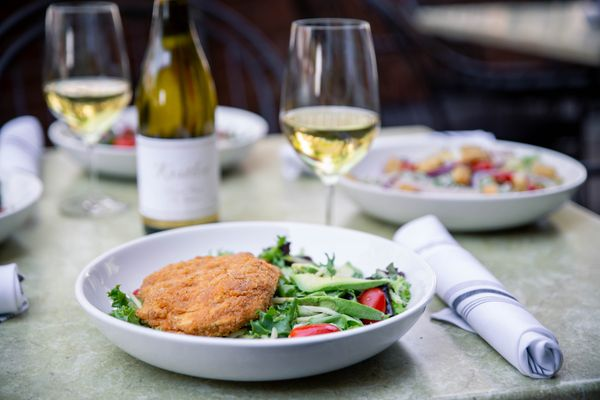curry: (107, 284, 144, 326)
sushi: (68, 218, 437, 383), (336, 126, 588, 232), (215, 104, 269, 175)
